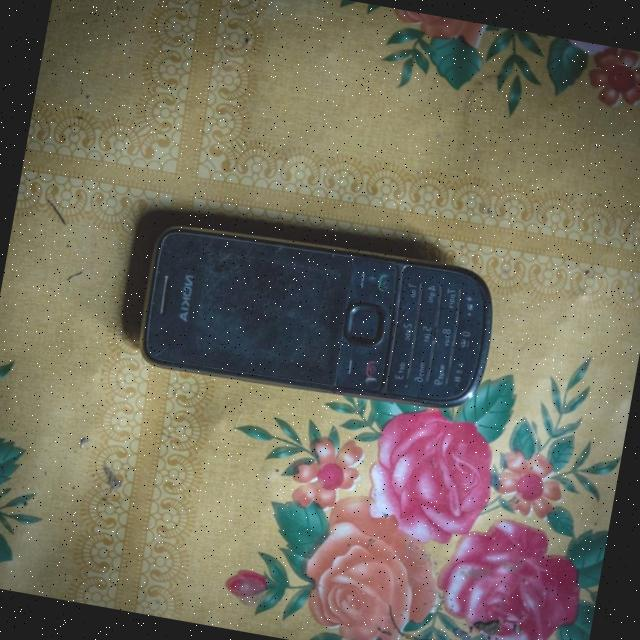Phone: (134, 206, 502, 422)
